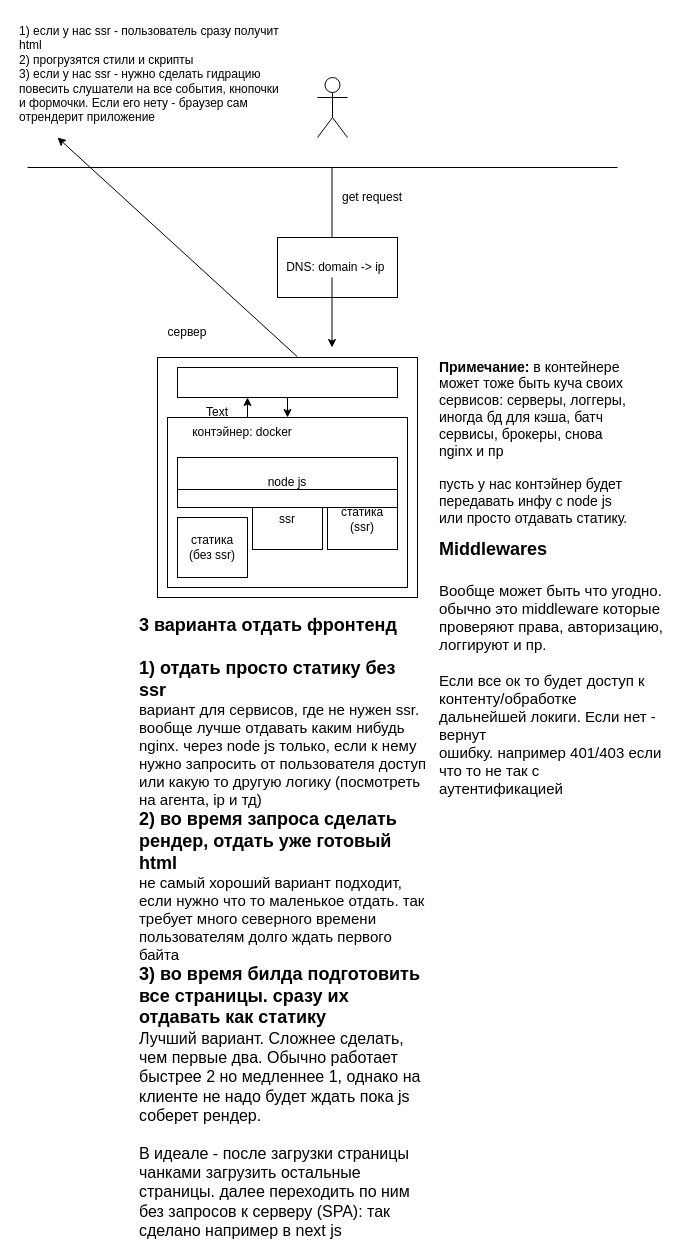
Image size: 684x1257. Some labels were removed from this diagram. Here are the shapes that lost their labels. From the top down, the centre of each, then its label:
At point 332,107: "client".
At point 287,382: "Девопс: nginx/candy/apache".
At point 287,498: "middlewares".
